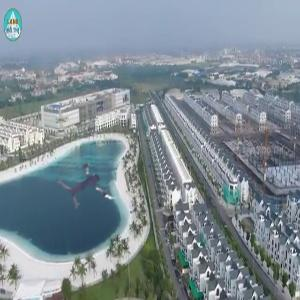drone: (57, 149, 124, 216)
